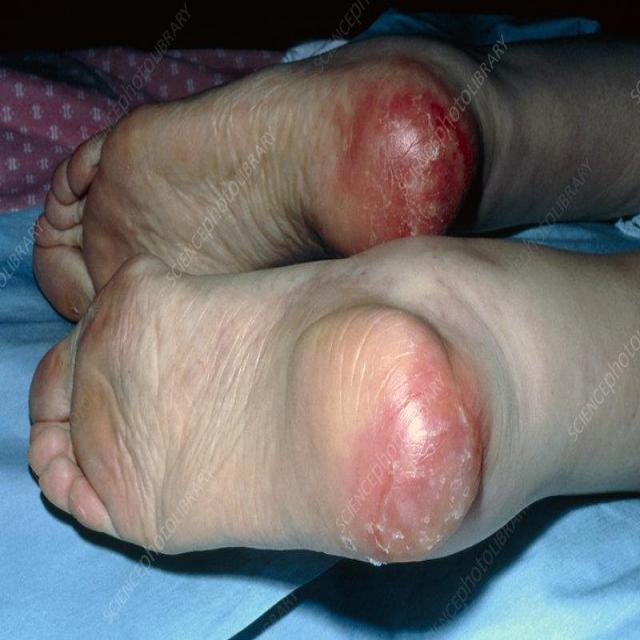DTI: (339, 80, 474, 246)
stage-1: (350, 352, 480, 553)
